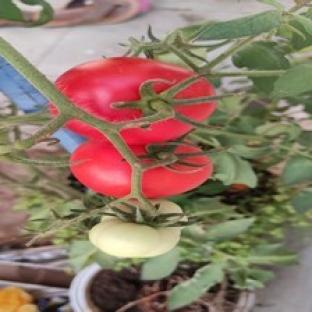Tomato: (56, 58, 196, 122), (90, 216, 181, 257), (143, 145, 213, 197)
